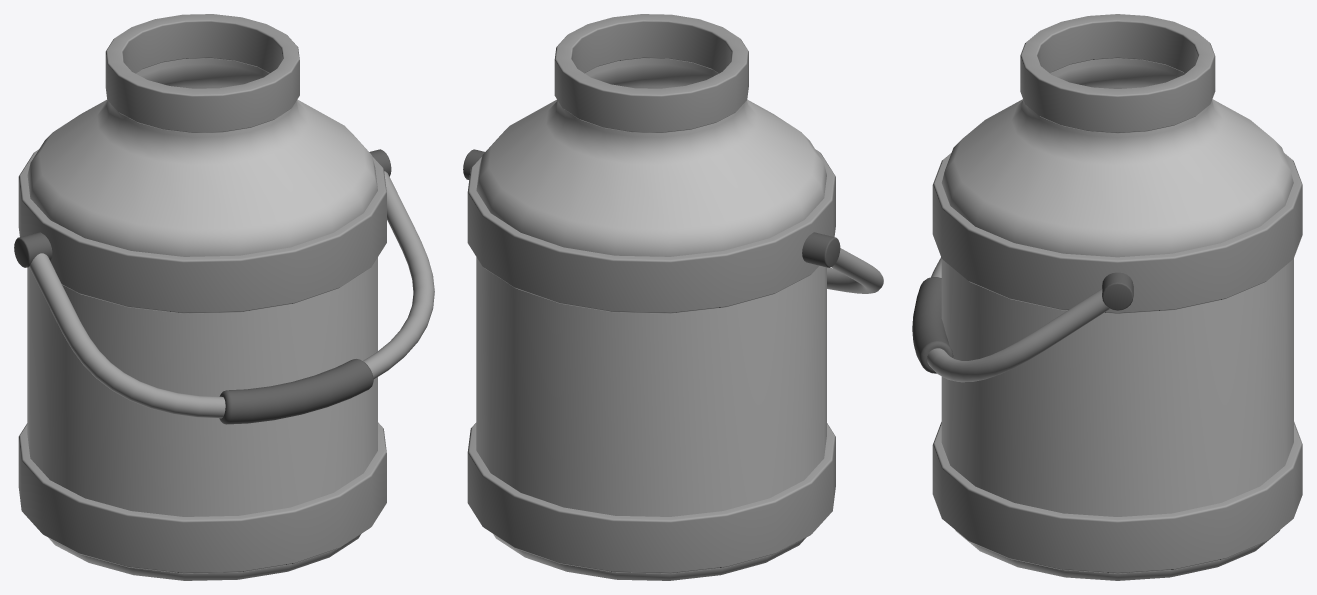
The model's file is Farm_19_Conteiner_1.glb.
3 views of the same model, side by side, from view 1: azimuth 30°, elevation 25°; view 2: azimuth 150°, elevation 25°; view 3: azimuth 270°, elevation 25° (orthographic).
Visible parts, largest first — view 1: Farm_19_Conteiner_1; view 2: Farm_19_Conteiner_1; view 3: Farm_19_Conteiner_1.
Boxes of the visible parts, x1,y1,x2,y2 form: Farm_19_Conteiner_1: [14, 14, 434, 580]; Farm_19_Conteiner_1: [463, 14, 883, 580]; Farm_19_Conteiner_1: [912, 14, 1302, 580].
Bounding box in the file's own units: 0.7198 × 0.8719 × 0.6711.
1 material, 1 textured.
